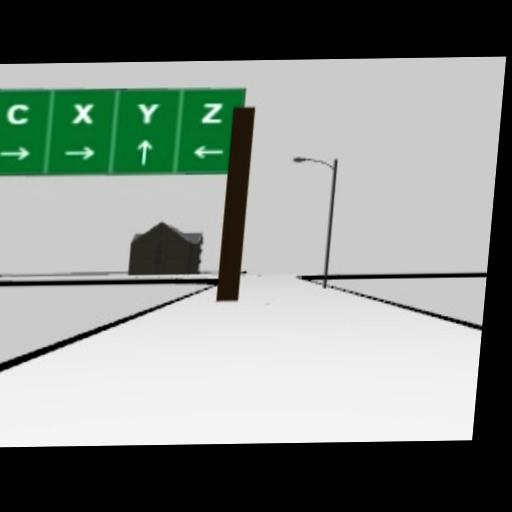C: (6, 103, 32, 126)
Left: (192, 144, 225, 159)
Right: (62, 144, 97, 161), (0, 145, 32, 162)
Straight: (134, 138, 155, 165)
X: (70, 103, 93, 126)
Y: (134, 102, 159, 125)
Z: (200, 100, 226, 126)
